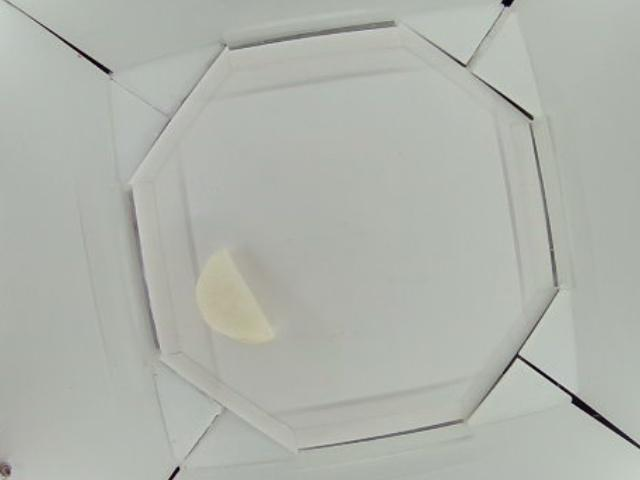Mooli: (193, 248, 277, 342)
